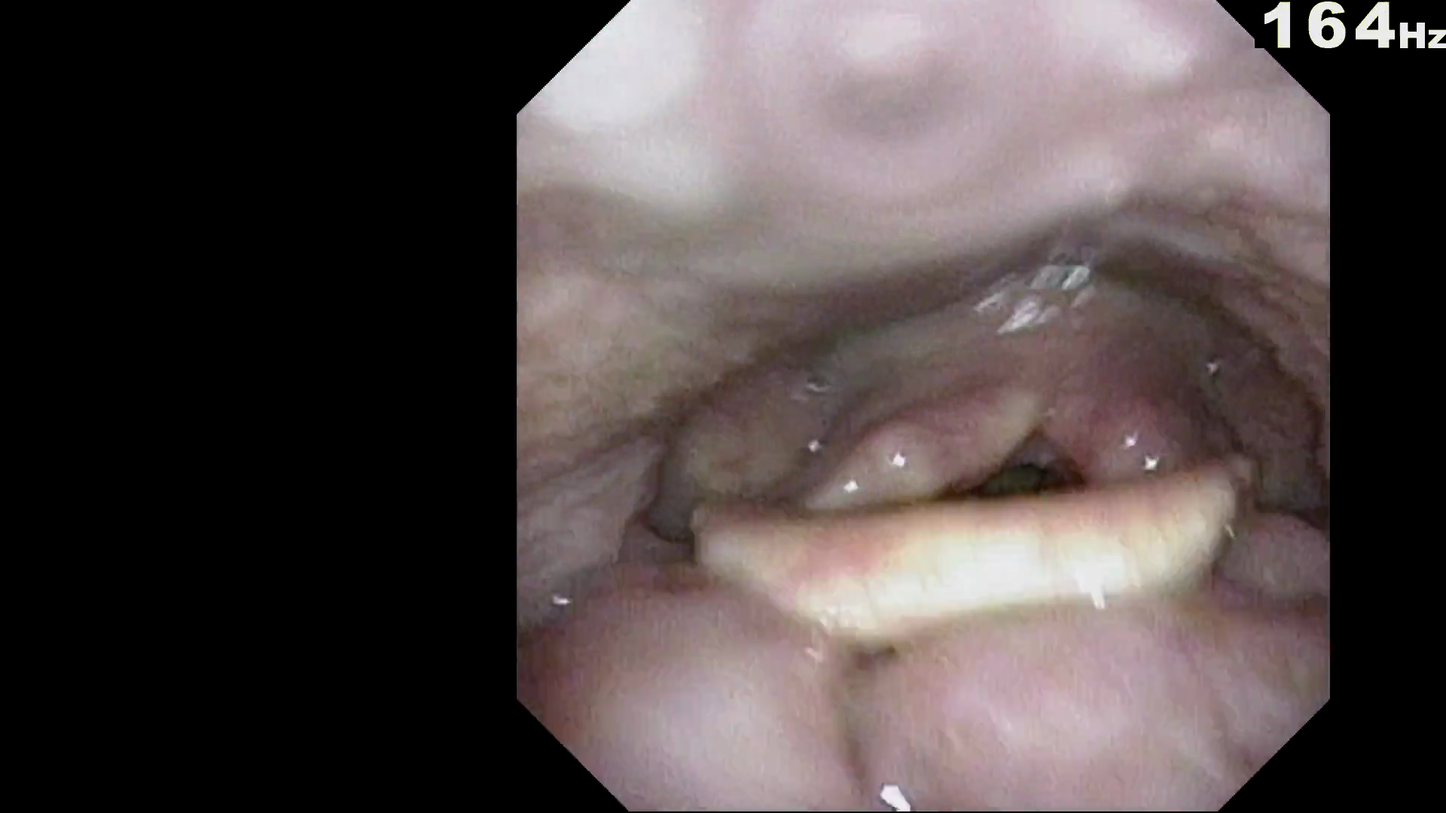epiglottis: (691, 418, 1175, 562)
